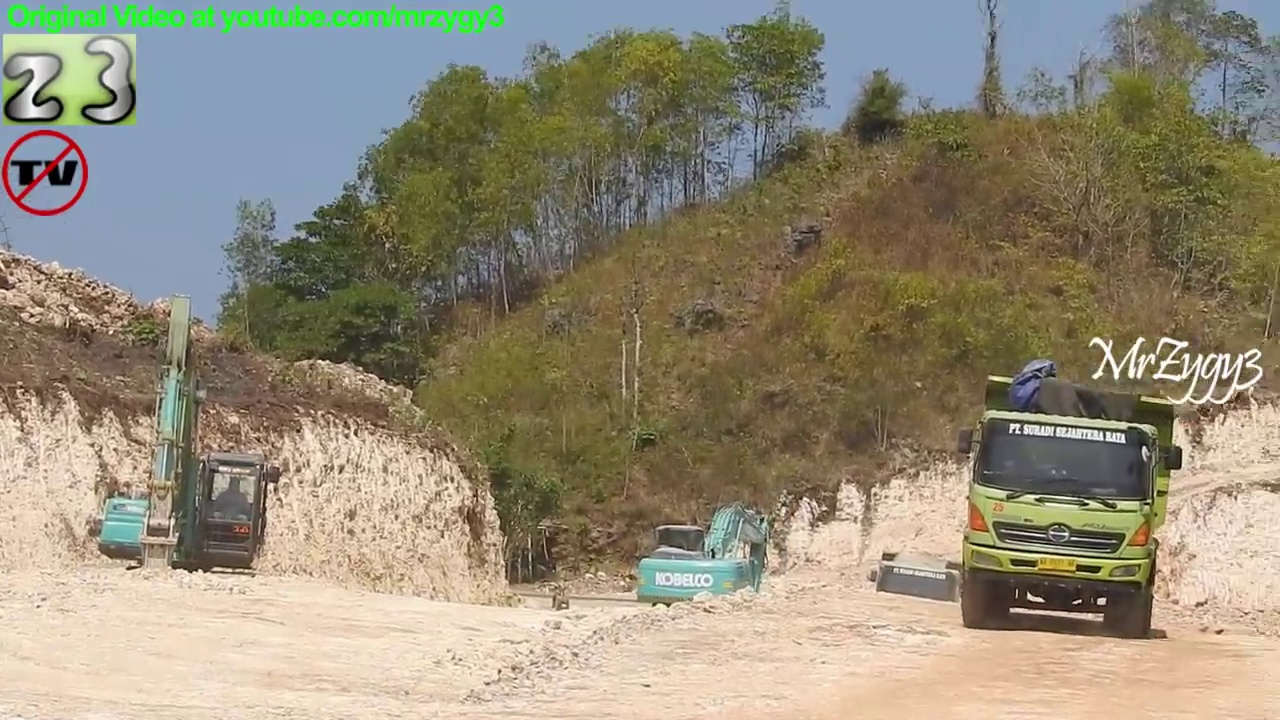excavator: (93, 288, 286, 619), (631, 498, 775, 640)
truck: (951, 368, 1189, 645), (862, 545, 971, 652)
